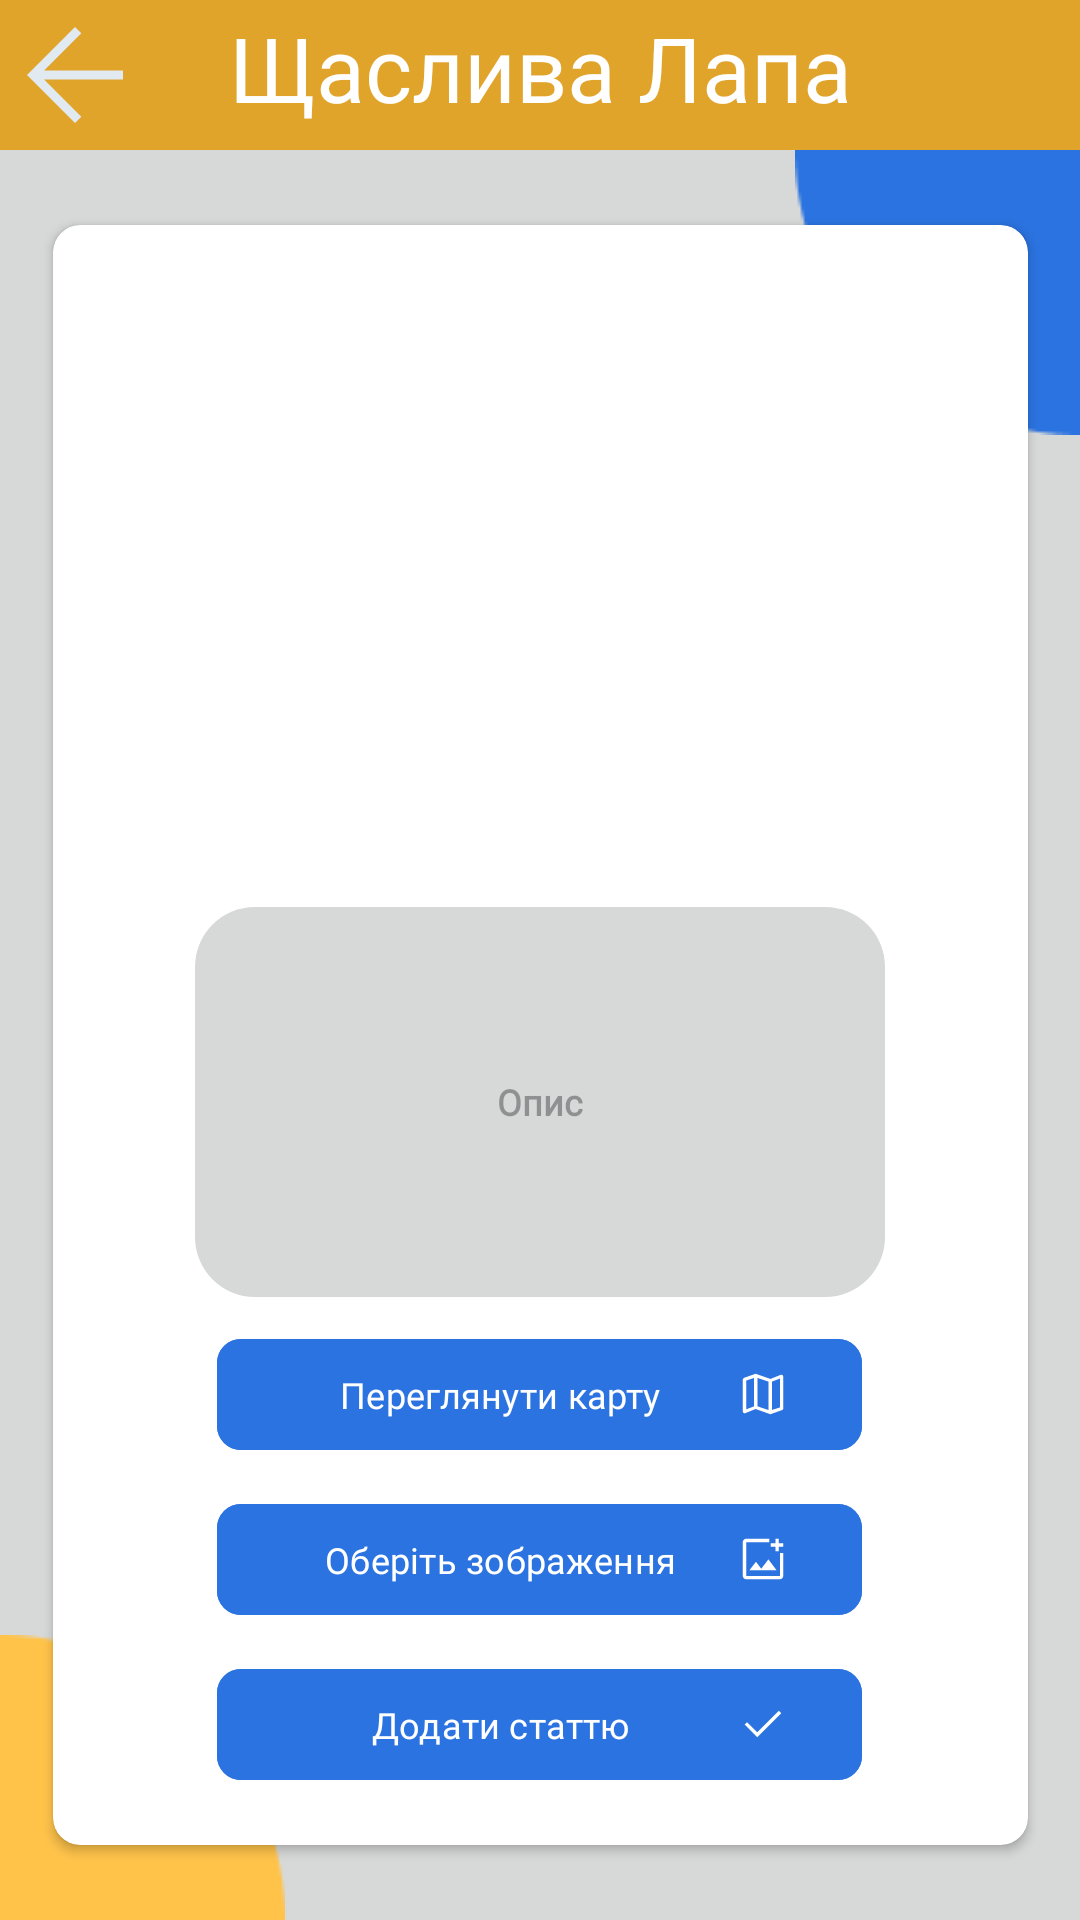

Named icons in this screenshot (1080x1920) and their centers, (x=x, y=y):
arrow back: (x=75, y=75)
